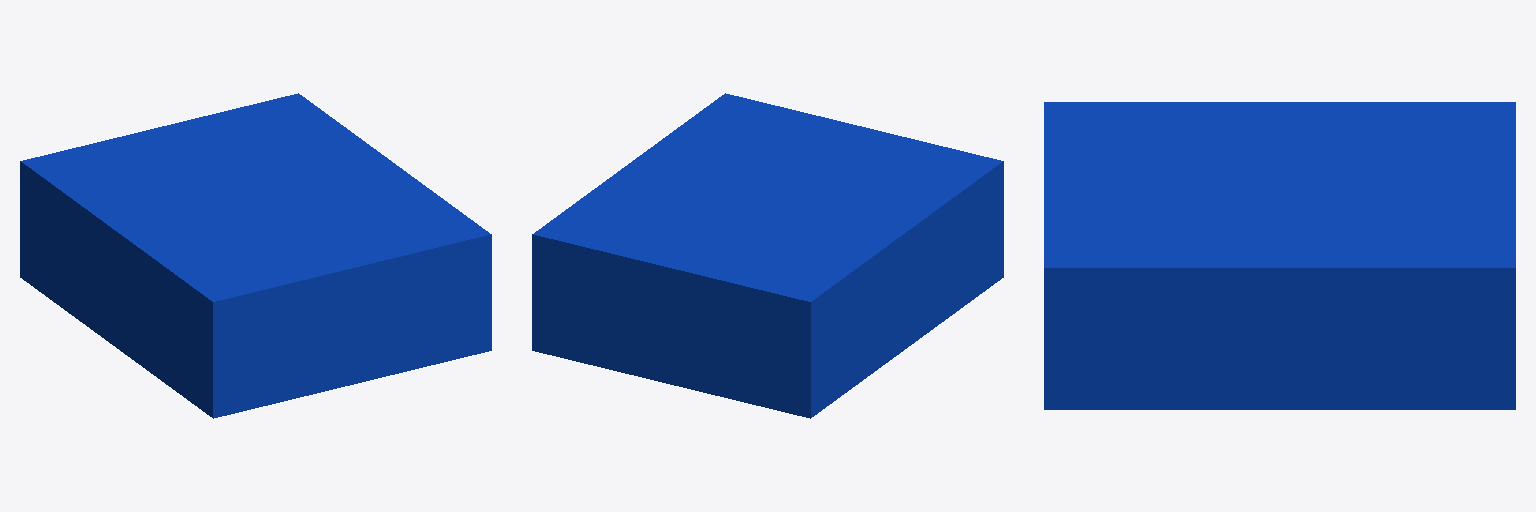
URDF robot description (tof_maix_sense_a010):
<?xml version="1.0"?>
<robot name="tof_maix_sense_a010">
  <!--
    Dimensoes do sensor:
      X: largura      = 0.025 m
      Y: altura       = 0.030 m
      Z: profundidade = 0.010 m

    O frame "tof" fica no centro geometrico da caixa.
  -->
  <material name="tof_blue">
    <color rgba="0.10 0.35 0.80 1.0"/>
  </material>

  <link name="tof">
    <inertial>
      <origin xyz="0 0 0" rpy="0 0 0"/>
      <mass value="0.010"/>
      <inertia
        ixx="8.333333e-07" ixy="0" ixz="0"
        iyy="6.041667e-07" iyz="0"
        izz="1.270833e-06"/>
    </inertial>

    <visual>
      <origin xyz="0 0 0" rpy="0 0 0"/>
      <geometry>
        <box size="0.025 0.030 0.010"/>
      </geometry>
      <material name="tof_blue"/>
    </visual>

    <collision>
      <origin xyz="0 0 0" rpy="0 0 0"/>
      <geometry>
        <box size="0.025 0.030 0.010"/>
      </geometry>
    </collision>
  </link>
</robot>

--- What the picture shows (computed from the rendered views, not written in the file) ---
The picture shows the robot from 3 angles, left to right: view 1: azimuth 30°, elevation 25°; view 2: azimuth 150°, elevation 25°; view 3: azimuth 270°, elevation 25°; orthographic projection.
Model tof_maix_sense_a010 with 1 links and 0 joints (none), rooted at tof, posed all joints at 0.
Links seen in each view (by area): view 1: tof; view 2: tof; view 3: tof.
Boxes of the visible links, x1=… form: tof: x1=20, y1=93, x2=491, y2=418; tof: x1=532, y1=93, x2=1003, y2=418; tof: x1=1044, y1=102, x2=1515, y2=409.
Bounding box of the posed robot: 0.025 × 0.03 × 0.01 m (x, y, z).
Geometry: primitives only (box / cylinder / sphere), no mesh files.
